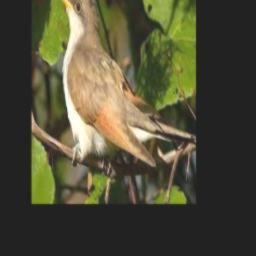Cuckoo: (55, 0, 170, 166)
